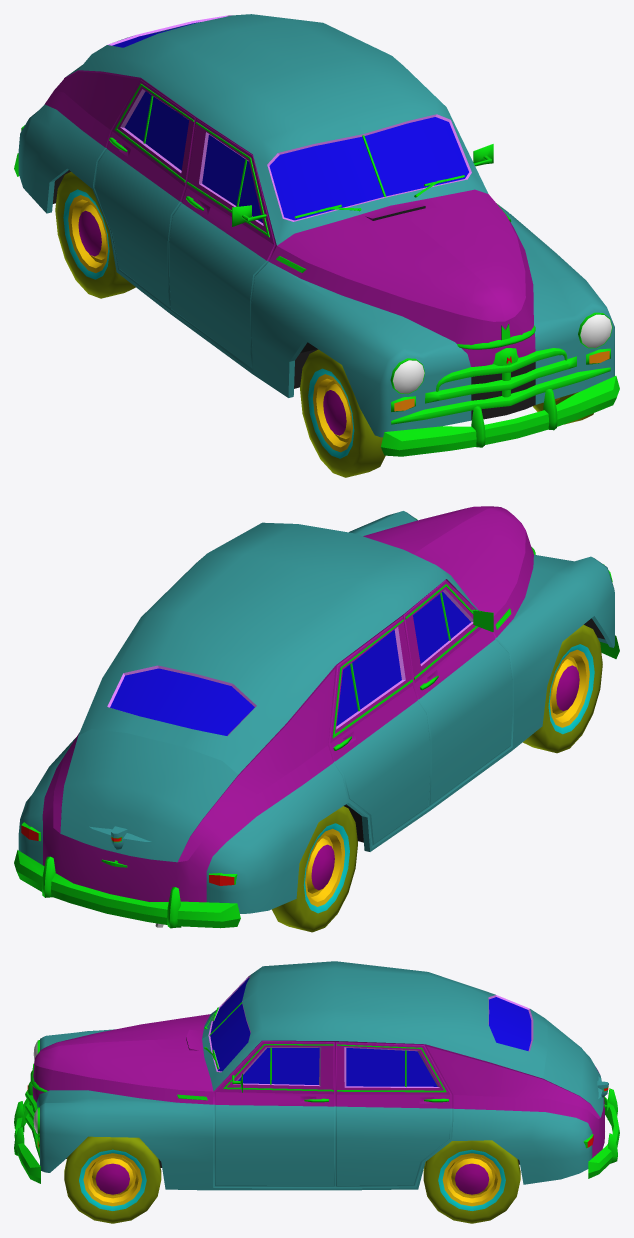
Rendered from Pobeda.fbx.
3 renders of one model, top to bottom at view 1: azimuth 30°, elevation 25°; view 2: azimuth 150°, elevation 25°; view 3: azimuth 270°, elevation 25°, orthographic. The views are drawn at different scales.
Visible parts, largest first — view 1: Body, Wheel_FR, Wheel_RR; view 2: Body, Wheel_RR, Wheel_FR; view 3: Body, Wheel_FL, Wheel_RL.
Part boxes in pixels (<box>): Body: <box>14,14,619,456</box>; Wheel_FR: <box>300,349,385,477</box>; Wheel_RR: <box>55,172,135,298</box>; Body: <box>14,506,619,928</box>; Wheel_RR: <box>272,806,357,932</box>; Wheel_FR: <box>523,624,602,753</box>; Body: <box>14,961,619,1190</box>; Wheel_FL: <box>64,1136,161,1223</box>; Wheel_RL: <box>423,1140,520,1223</box>.
Bounding box in the file's own units: 167 × 161 × 457.
